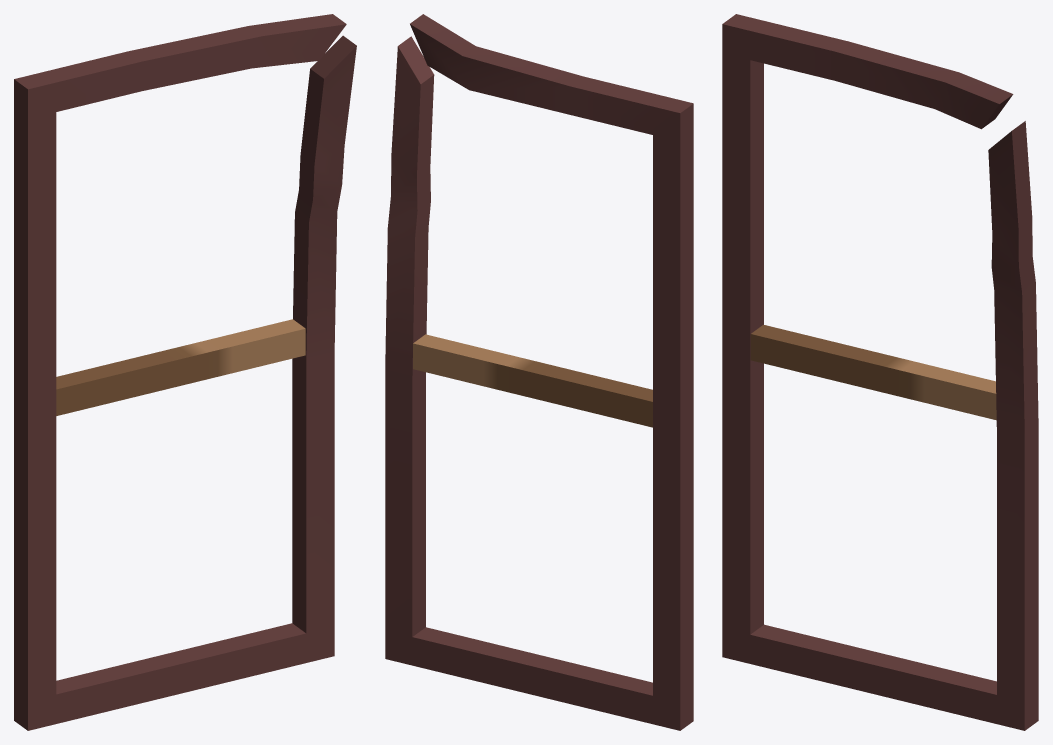
Rendered from DBK_WinSmall_Metal_90.fbx.
3 renders of one model, left to right at view 1: azimuth 30°, elevation 25°; view 2: azimuth 150°, elevation 25°; view 3: azimuth 330°, elevation 25°, orthographic. The views are drawn at different scales.
Visible parts, largest first — view 1: DBK_WinSmall_Metal_90; view 2: DBK_WinSmall_Metal_90; view 3: DBK_WinSmall_Metal_90.
Boxes of the visible parts, <box> form: DBK_WinSmall_Metal_90: <box>14,14,356,730</box>; DBK_WinSmall_Metal_90: <box>385,14,693,730</box>; DBK_WinSmall_Metal_90: <box>722,14,1038,730</box>.
Size of the model in its own units: 60.91 by 121 by 11.16.
